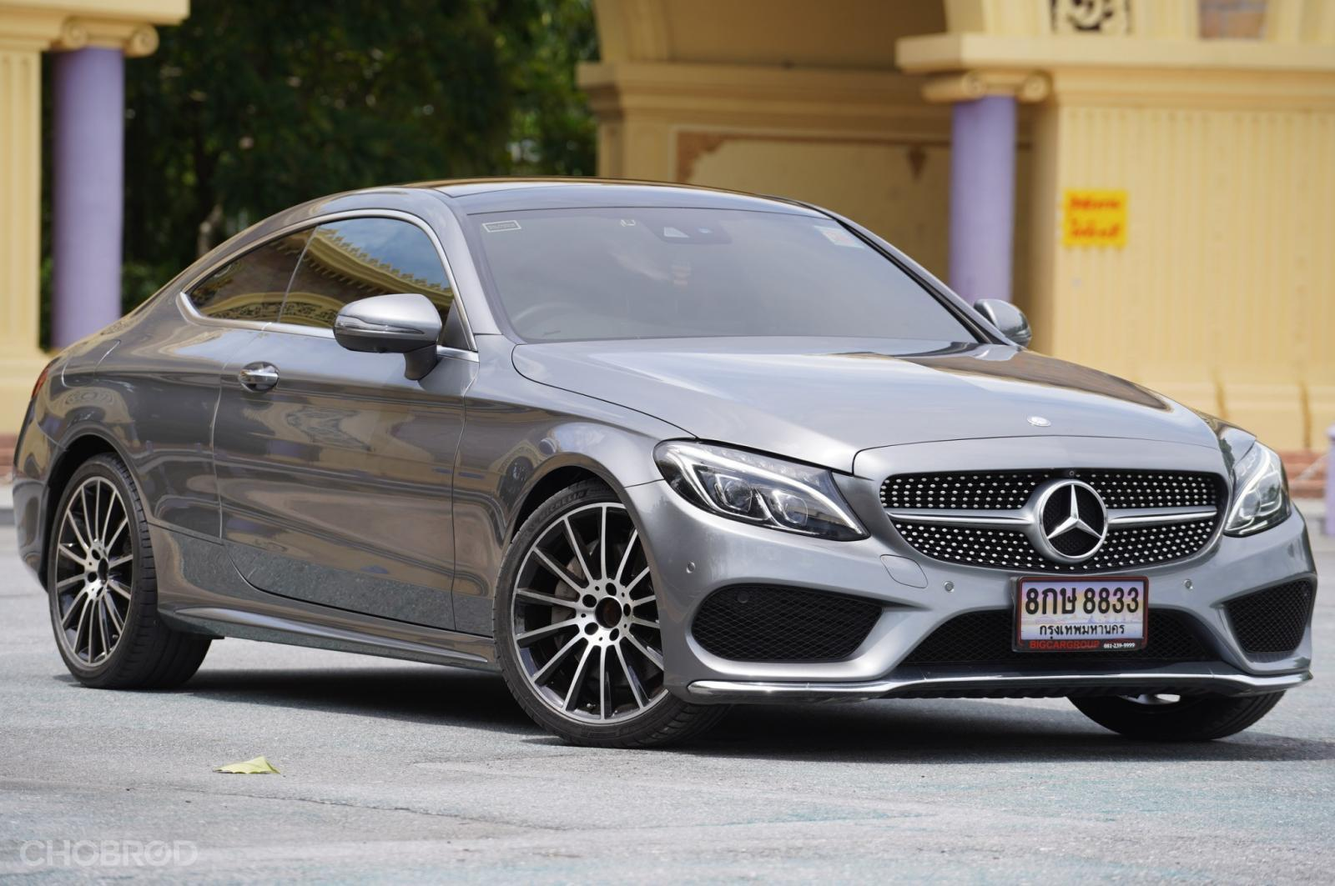license-plate: (1011, 574, 1155, 656)
